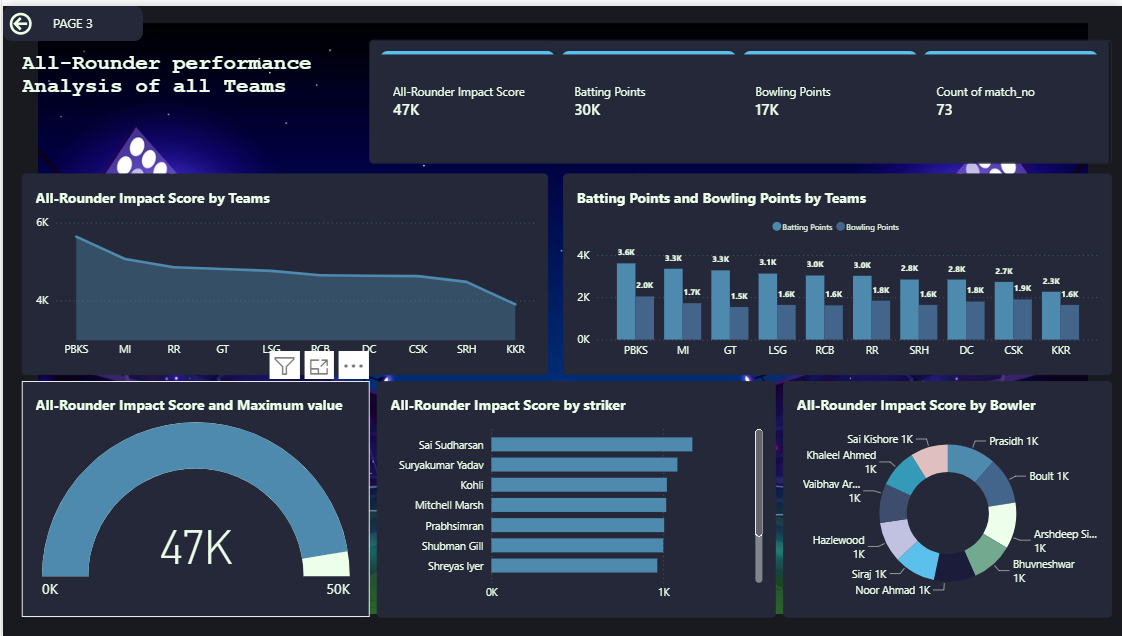

The page's visual inventory and layout, read from the dashboard file:
{"tool":"powerbi","page":{"name":"All_Rounder Analysis","canvas":[1280,720],"ordinal":3},"visuals":[{"type":"areaChart","fields":{"Category":["Dim_teams.Teams"],"Y":["_Measures Logical.All-Rounder Impact Score"]},"box":[21.4,191.4,601.4,230],"z":0},{"type":"clusteredColumnChart","fields":{"Category":["Dim_teams.Teams"],"Y":["_Measures Logical.Batting Points","_Measures Logical.Bowling Points"]},"box":[640,191.4,627.1,230],"z":1000},{"type":"donutChart","fields":{"Y":["_Measures Logical.All-Rounder Impact Score"],"Category":["Fact_deliveries.Bowler"]},"box":[891.4,428.6,375.7,270],"z":2000},{"type":"barChart","fields":{"Y":["_Measures Logical.All-Rounder Impact Score"],"Category":["Dim_Players.striker"]},"box":[427.1,428.6,455.7,270],"z":3000},{"type":"gauge","fields":{"Y":["_Measures Logical.All-Rounder Impact Score"],"MaxValue":["Dim_Players.Maximum value"]},"box":[21.4,428.6,397.1,270],"z":4000},{"type":"cardVisual","fields":{"Data":["_Measures Logical.All-Rounder Impact Score","_Measures Logical.Batting Points","_Measures Logical.Bowling Points","CountNonNull(Dim_Matches.match_no)"]},"box":[418.6,38.6,848.6,141.4],"z":5000},{"type":"textbox","box":[21.4,51.4,397.1,128.6],"z":6000},{"type":"actionButton","box":[0,0,160,40],"z":6001},{"type":"actionButton","box":[0,0,160,40],"z":6002}]}

Visuals, with their boxes in screenshot pixels (x1, y1, x2, y2), scaled from the page's 1280x720 canvas onto the 1122x636 screenshot:
areaChart - Dim_teams.Teams x _Measures Logical.All-Rounder Impact Score: (x1=19, y1=169, x2=546, y2=372)
clusteredColumnChart - Dim_teams.Teams x _Measures Logical.Batting Points: (x1=561, y1=169, x2=1111, y2=372)
donutChart - _Measures Logical.All-Rounder Impact Score x Fact_deliveries.Bowler: (x1=781, y1=379, x2=1111, y2=617)
barChart - _Measures Logical.All-Rounder Impact Score x Dim_Players.striker: (x1=374, y1=379, x2=774, y2=617)
gauge - _Measures Logical.All-Rounder Impact Score x Dim_Players.Maximum value: (x1=19, y1=379, x2=367, y2=617)
cardVisual - _Measures Logical.All-Rounder Impact Score x _Measures Logical.Batting Points: (x1=367, y1=34, x2=1111, y2=159)
textbox: (x1=19, y1=45, x2=367, y2=159)
actionButton: (x1=0, y1=0, x2=140, y2=35)
actionButton: (x1=0, y1=0, x2=140, y2=35)
